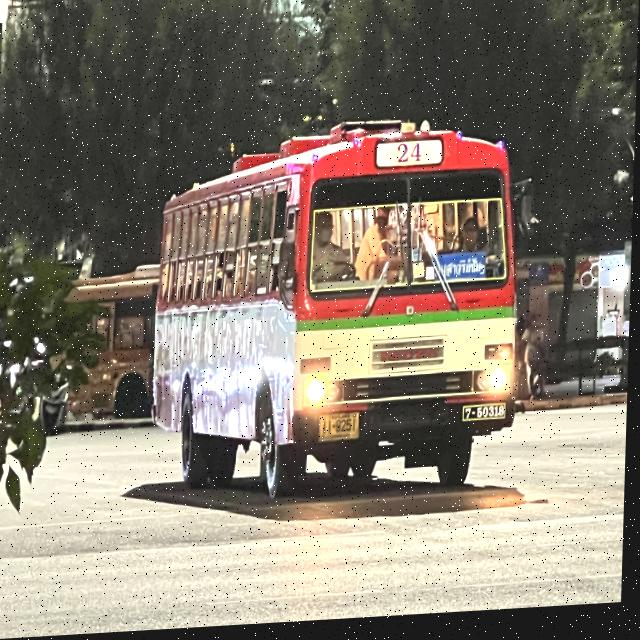BMTA-bus: (150, 118, 532, 509)
Bus-Line-Number: (396, 142, 426, 172)
Destination-Sign-Normal: (434, 258, 489, 288)
